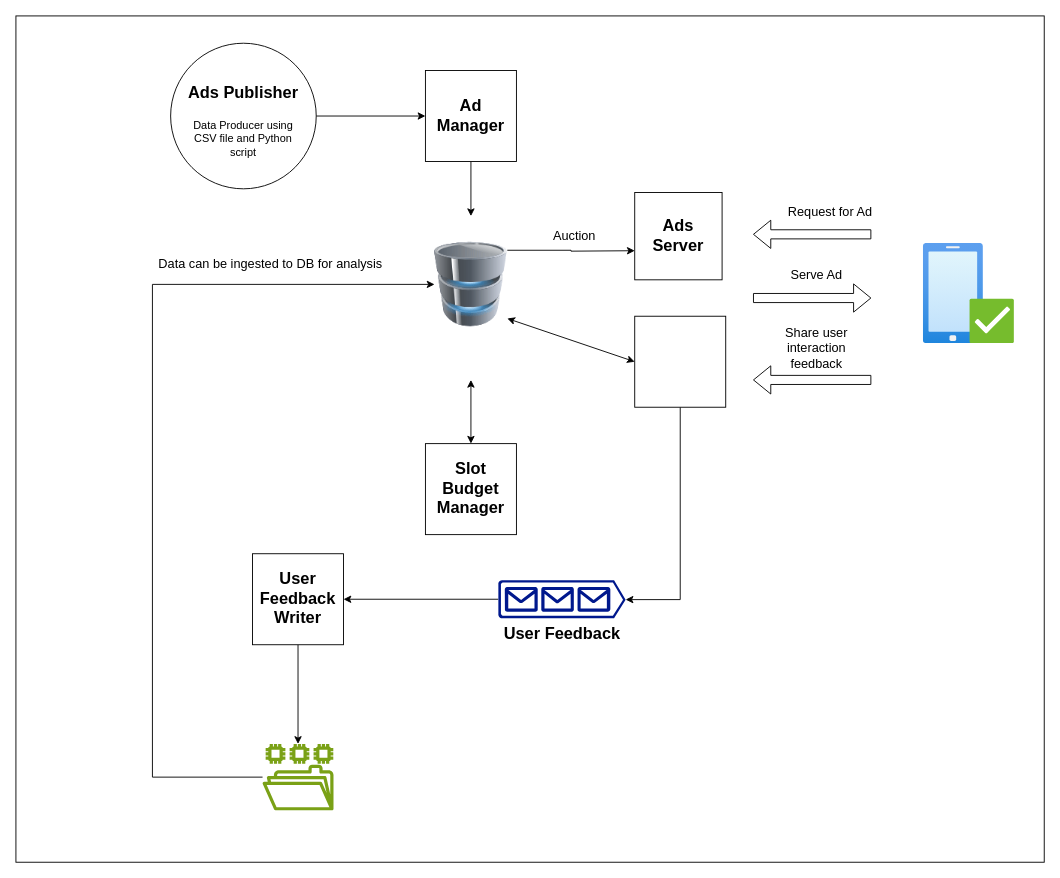
Image size: 1060x878. Some labels were removed from this diagram. Each missing label, with the centre of its shape:
Feedback Handler: point 680,361
Postgres DB: point 470,284
User Device: point 968,293
